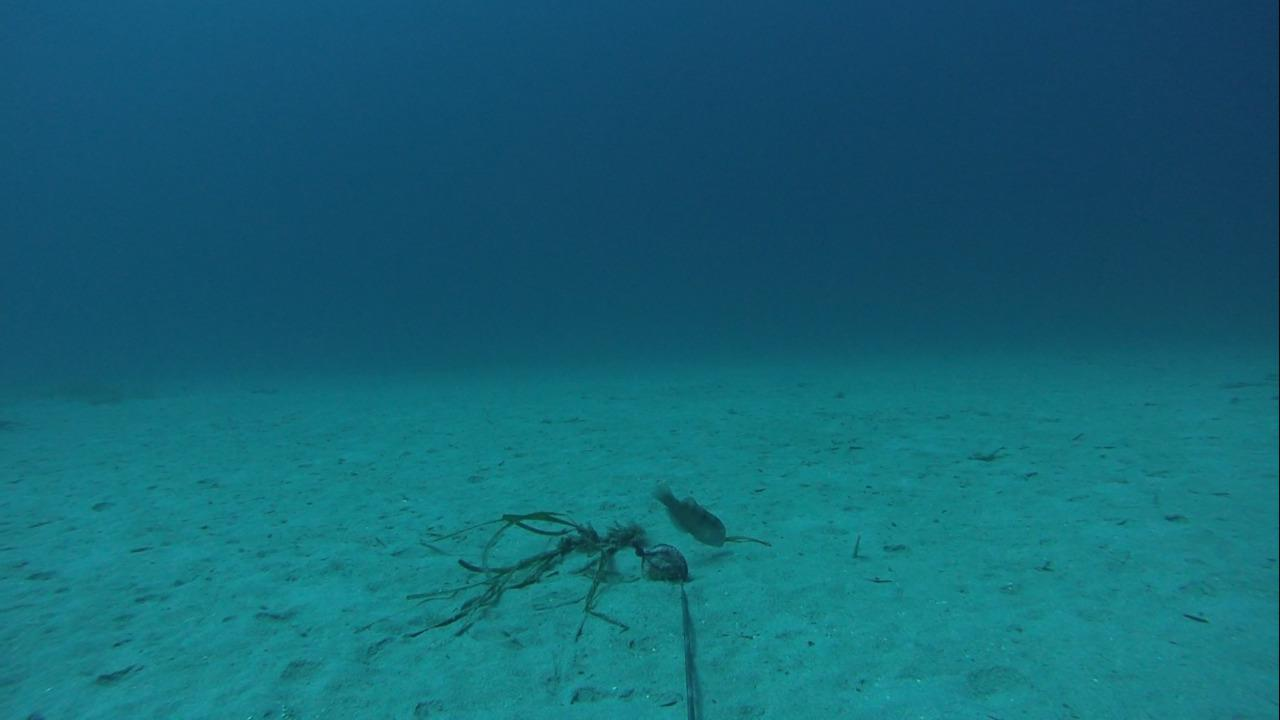raor: (651, 480, 730, 551)
